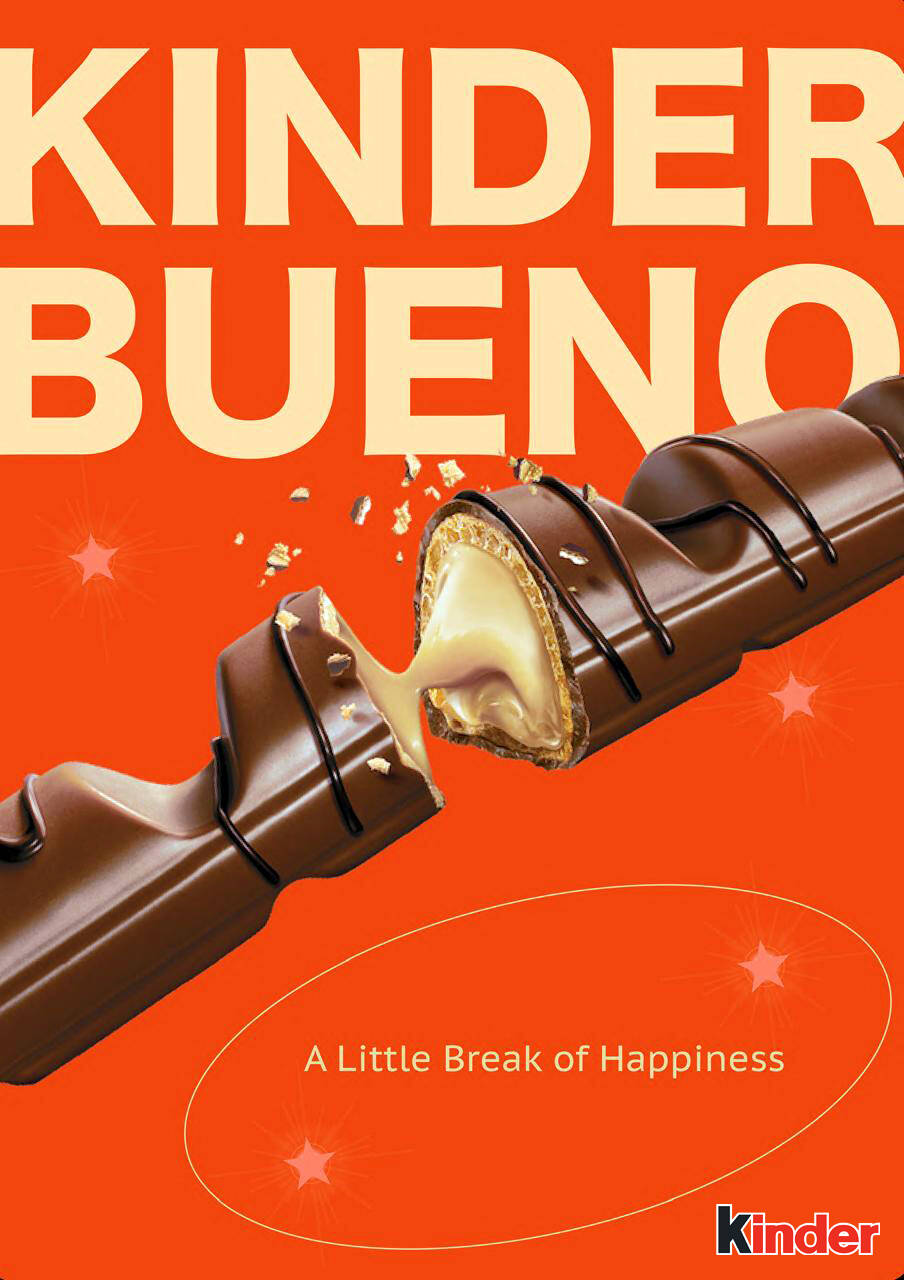Headline: (293, 1006, 809, 1124)
Product: (2, 340, 903, 1138)
logo: (0, 10, 904, 478), (682, 1208, 899, 1268)
